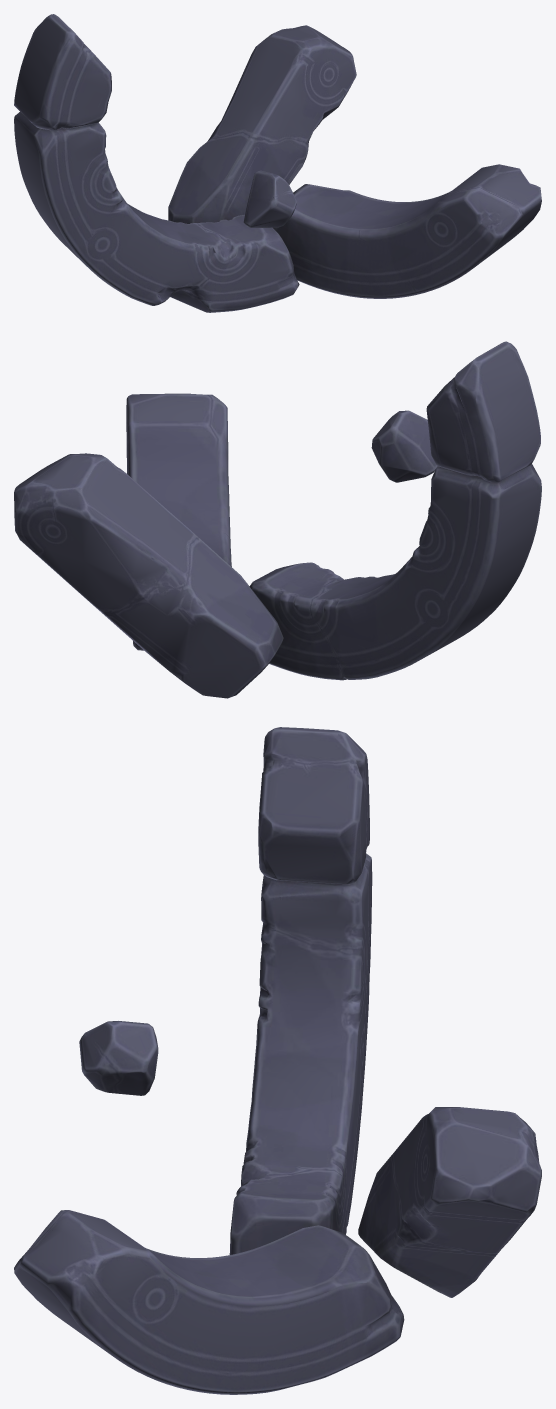
File: caos_stl_rubble_01c_v35.glb
3 renders of one model, top to bottom at view 1: azimuth 30°, elevation 25°; view 2: azimuth 150°, elevation 25°; view 3: azimuth 270°, elevation 25°, orthographic. The views are drawn at different scales.
Visible parts, largest first — view 1: caos_stl_rubble_01c; view 2: caos_stl_rubble_01c; view 3: caos_stl_rubble_01c.
Part boxes in pixels (box(x1,y1,x2,y2)): caos_stl_rubble_01c: box(14, 14, 541, 312); caos_stl_rubble_01c: box(14, 341, 541, 698); caos_stl_rubble_01c: box(14, 727, 541, 1394).
Bounding box in the file's own units: 10.71 × 7.53 × 8.11.
1 material, 1 textured.
